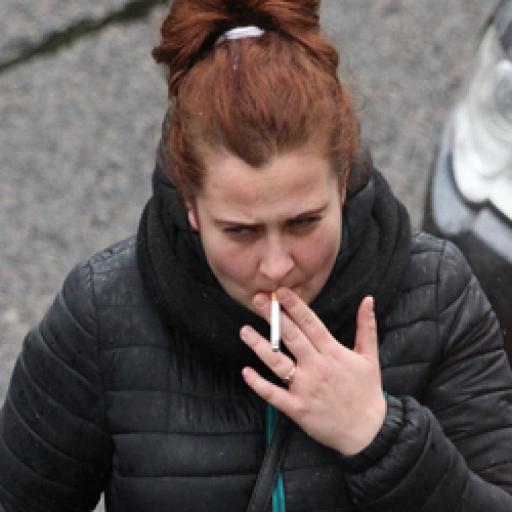terdeteksi merokok: (225, 220, 329, 386)
